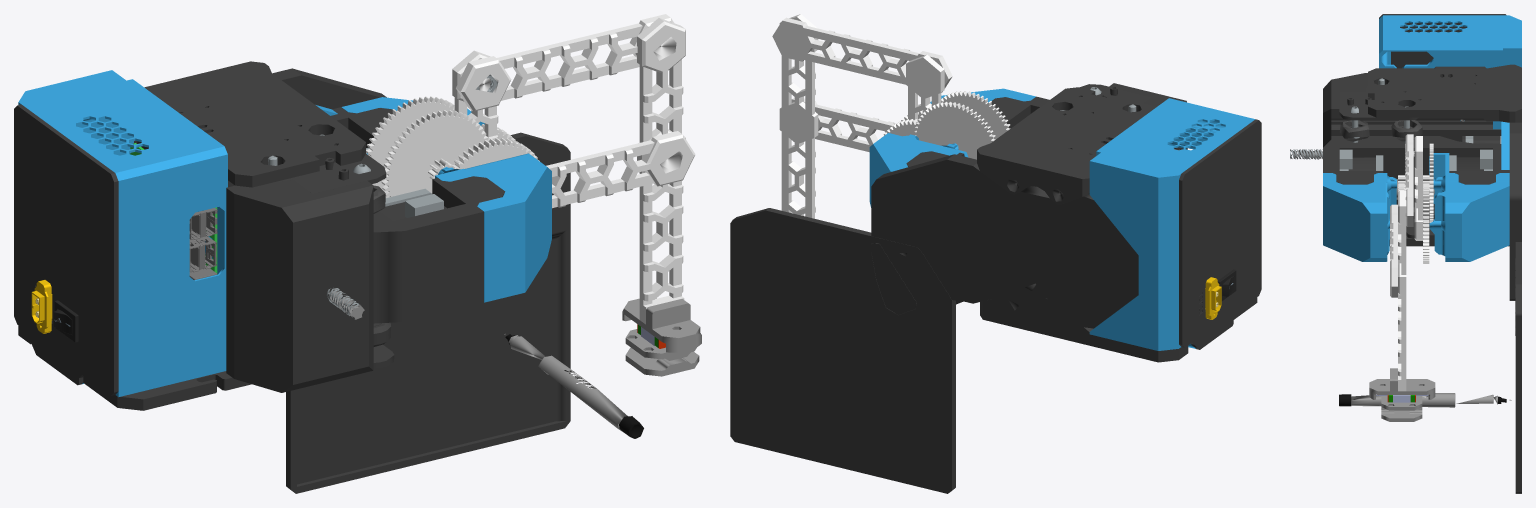
The model's file is model-lite.glb.
3 views of the same model, side by side, from view 1: azimuth 30°, elevation 25°; view 2: azimuth 150°, elevation 25°; view 3: azimuth 270°, elevation 25° (orthographic). The views are drawn at different scales.
Parts seen in each view (by area): view 1: baseplate, intframe (2), Body37, lift stepper, Body1, Body3:22, Body1:42, Body1:31; view 2: baseplate, intframe (2), Body37, lift stepper, Body1:42; view 3: intframe (2), lift stepper, baseplate, Body37, Body1, Body3:22, Body1:14.
Part boxes in pixels (x1,y1,x2,y2): baseplate: [14, 68, 570, 493]; intframe (2): [18, 70, 551, 397]; Body37: [189, 14, 695, 324]; lift stepper: [144, 61, 446, 368]; Body1: [328, 289, 701, 438]; Body3:22: [268, 74, 497, 317]; Body1:42: [31, 280, 52, 333]; Body1:31: [53, 300, 78, 342]; baseplate: [730, 83, 1261, 493]; intframe (2): [869, 88, 1255, 350]; Body37: [772, 14, 1179, 218]; lift stepper: [977, 84, 1157, 204]; Body1:42: [1205, 277, 1221, 319]; intframe (2): [1323, 15, 1521, 261]; lift stepper: [1331, 64, 1521, 238]; baseplate: [1323, 14, 1521, 493]; Body37: [1390, 134, 1433, 391]; Body1: [1290, 119, 1511, 421]; Body3:22: [1290, 78, 1501, 170]; Body1:14: [1340, 120, 1422, 141].
Bounding box in the file's own units: 35.14 × 26.05 × 17.86.
